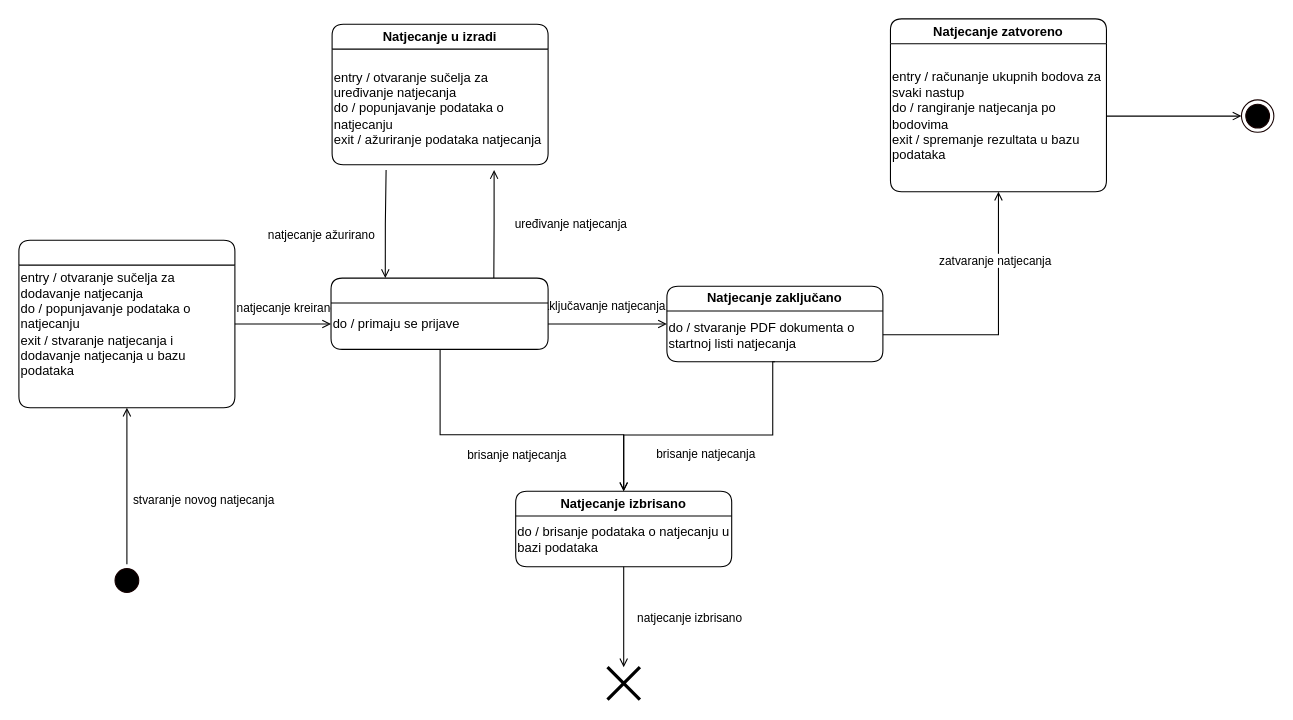
The diagram is 1293 pixels wide and 720 high, and some of its shapes have lost their labels. Each missing label, with the box of its shape:
Natjecanje napravljeno: (18, 239, 235, 408)
Natjecanje otvoreno: (330, 277, 548, 349)
